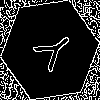Y: (25, 25, 78, 79)
